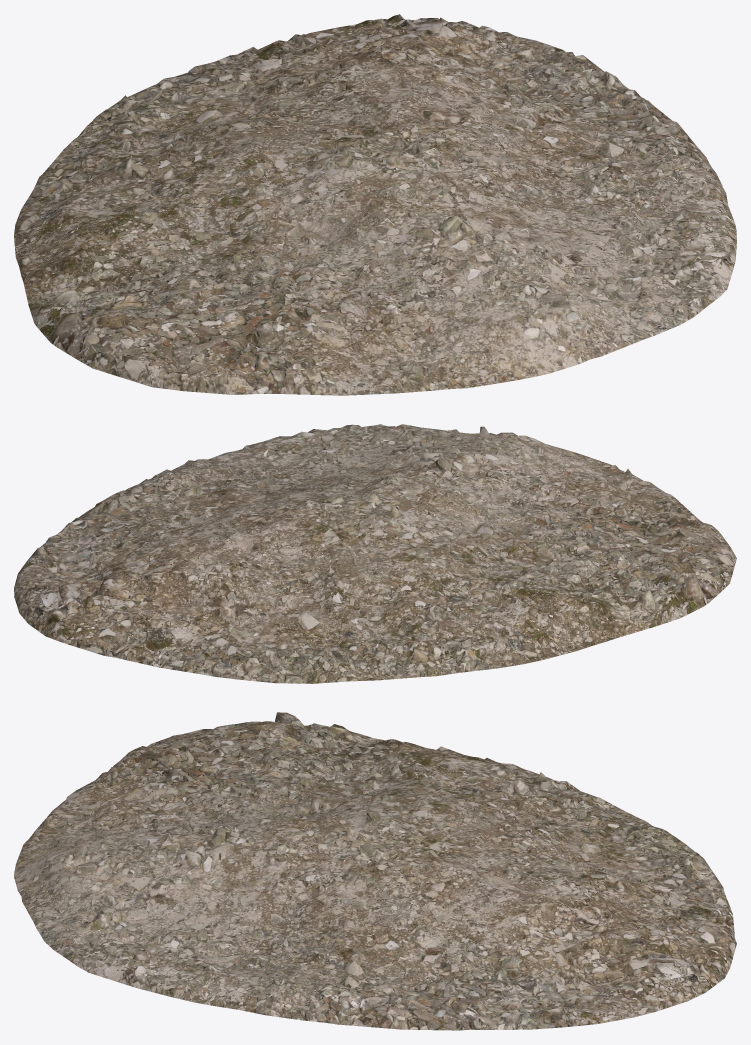
The model's file is trench_rock.glb.
The picture shows the model from 3 angles, top to bottom: view 1: azimuth 30°, elevation 25°; view 2: azimuth 150°, elevation 25°; view 3: azimuth 270°, elevation 25°; orthographic projection. The views are drawn at different scales.
Parts seen in each view (by area): view 1: ydzkbhu_LOD0_TIER2_000; view 2: ydzkbhu_LOD0_TIER2_000; view 3: ydzkbhu_LOD0_TIER2_000.
Boxes of the visible parts, x1,y1,x2,y2 form: ydzkbhu_LOD0_TIER2_000: [14, 14, 736, 395]; ydzkbhu_LOD0_TIER2_000: [14, 424, 736, 683]; ydzkbhu_LOD0_TIER2_000: [14, 712, 736, 1030].
Size of the model in its own units: 1.16 by 0.1171 by 1.17.
Materials: 1 (1 with a texture image).
